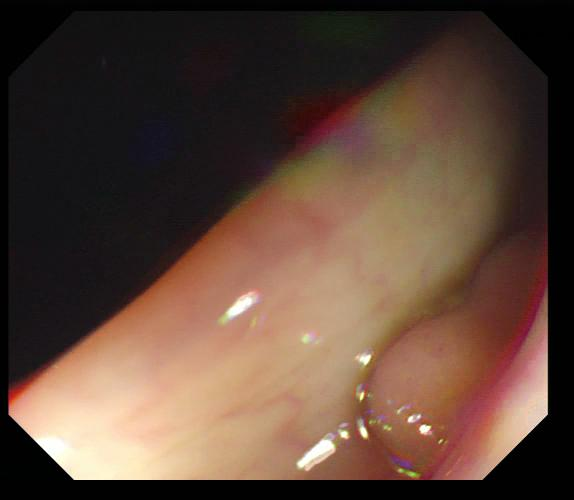polyp: (367, 244, 540, 470)
